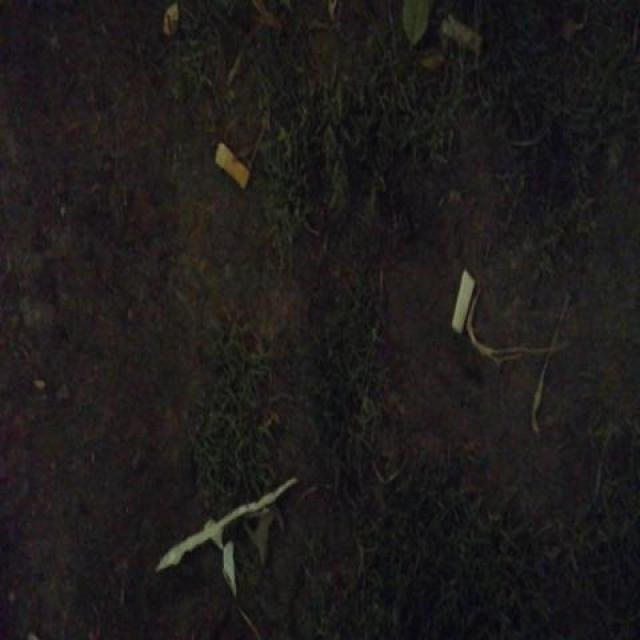non-organic waste: (435, 9, 485, 62), (210, 137, 253, 196), (448, 263, 476, 337)
